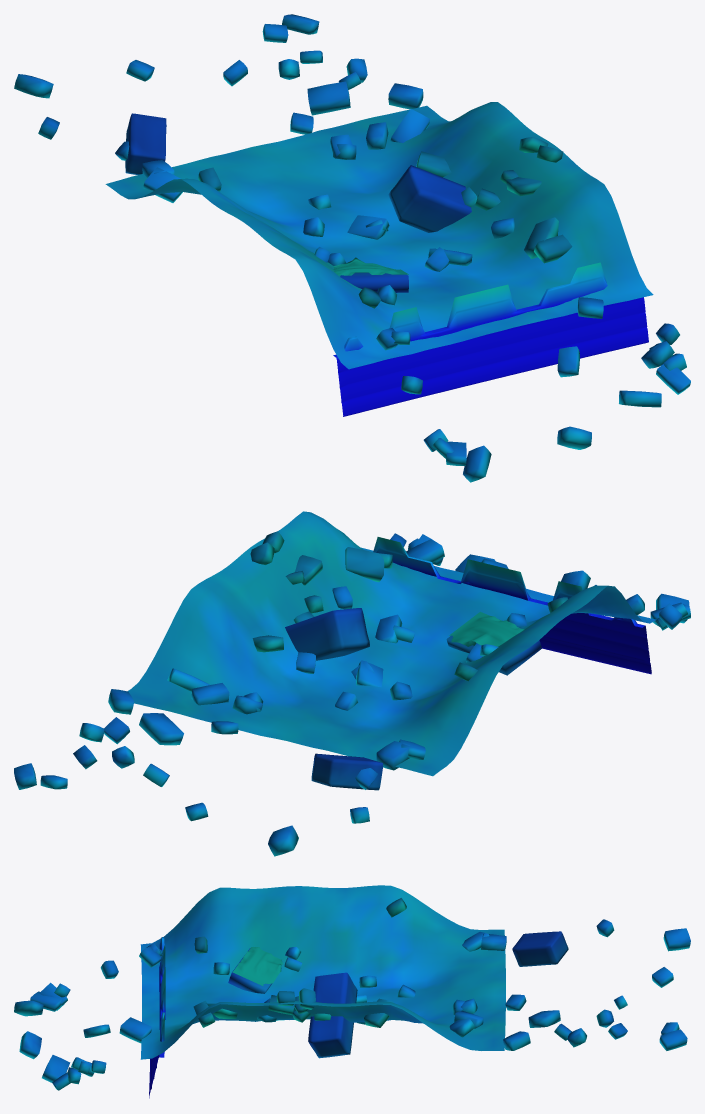
Rendered from seawall_breach_b.glb.
3 views of the same model, one above another, from view 1: azimuth 30°, elevation 25°; view 2: azimuth 150°, elevation 25°; view 3: azimuth 270°, elevation 25° (orthographic). The views are drawn at different scales.
Parts seen in each view (by area): view 1: seawall_breach_b; view 2: seawall_breach_b; view 3: seawall_breach_b.
Part boxes in pixels (bbox=[...]): seawall_breach_b: bbox=[14, 14, 690, 482]; seawall_breach_b: bbox=[14, 511, 690, 856]; seawall_breach_b: bbox=[14, 885, 690, 1098].
Size of what is drawn, in the model's own units: 12.46 by 5.67 by 29.03.
